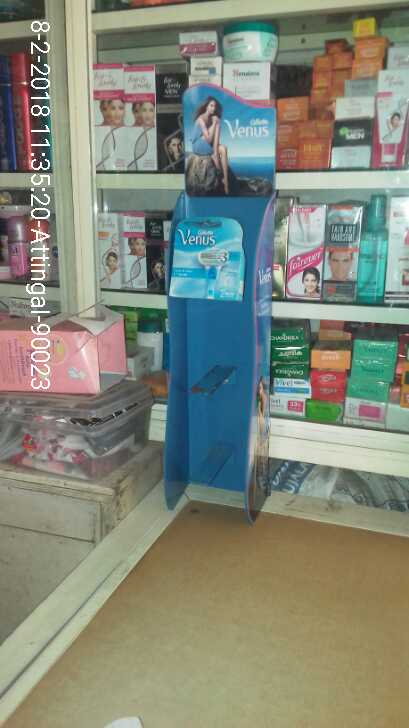venus: (172, 212, 246, 302)
